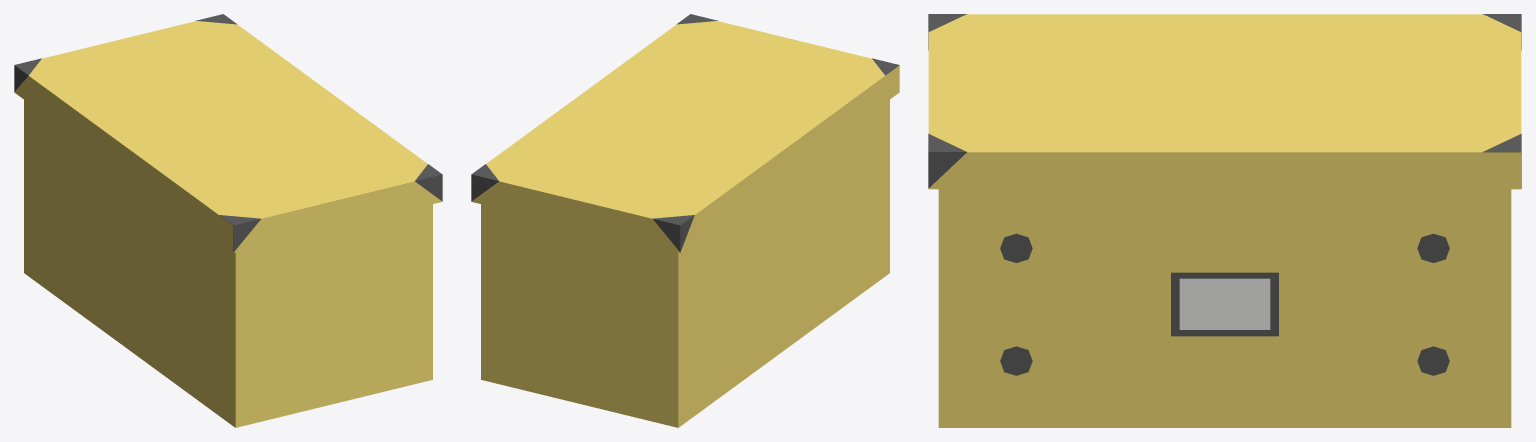
File: storage_box_1.fbx
The picture shows the model from 3 angles, left to right: view 1: azimuth 30°, elevation 25°; view 2: azimuth 150°, elevation 25°; view 3: azimuth 270°, elevation 25°; orthographic projection. The views are drawn at different scales.
Parts seen in each view (by area): view 1: storage_box_1; view 2: storage_box_1; view 3: storage_box_1.
Part boxes in pixels (box(x1,y1,x2,y2)): storage_box_1: box(14, 14, 442, 427); storage_box_1: box(471, 14, 899, 427); storage_box_1: box(928, 14, 1521, 427).
Bounding box in the file's own units: 23.14 × 42.02 × 21.86.
